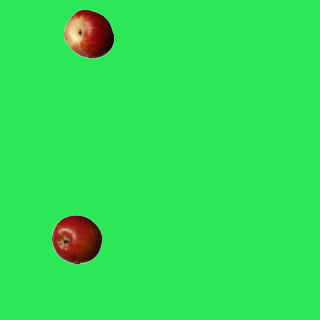Apple Braeburn: (51, 214, 101, 264)
Nectarine: (63, 8, 113, 58)
